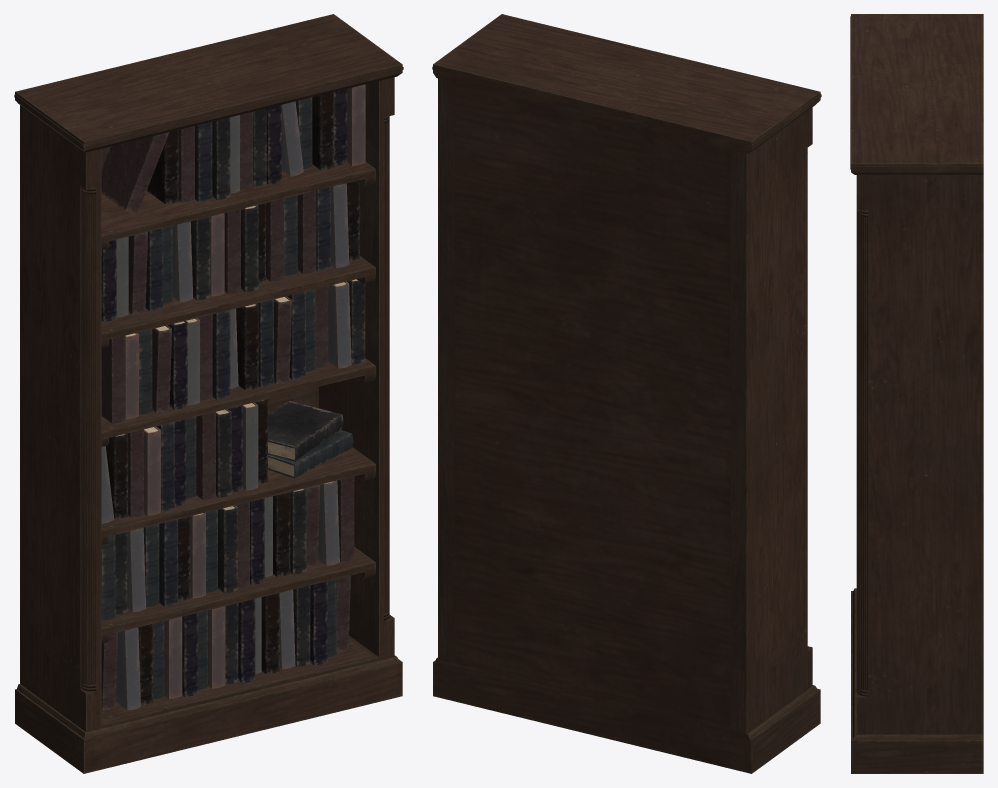
The model's file is books1.glb.
3 renders of one model, left to right at view 1: azimuth 30°, elevation 25°; view 2: azimuth 150°, elevation 25°; view 3: azimuth 270°, elevation 25°, orthographic. The views are drawn at different scales.
Visible parts, largest first — view 1: Victorian Bookcase Tall, Victorian Bookcase Tall Books 5, Victorian Bookcase Tall Books 2, Victorian Bookcase Tall Books 6, Victorian Bookcase Tall Books 1, Victorian Bookcase Tall Books 7, Victorian Bookcase Tall Books 3, Victorian Bookcase Tall Corner, Victorian Bookcase Tall Books 4; view 2: Victorian Bookcase Tall, Victorian Bookcase Tall Corner; view 3: Victorian Bookcase Tall, Victorian Bookcase Tall Corner.
Boxes of the visible parts, bbox=[...] form: Victorian Bookcase Tall: bbox=[14, 14, 403, 773]; Victorian Bookcase Tall Books 5: bbox=[101, 279, 365, 423]; Victorian Bookcase Tall Books 2: bbox=[101, 476, 354, 620]; Victorian Bookcase Tall Books 6: bbox=[101, 181, 359, 321]; Victorian Bookcase Tall Books 1: bbox=[101, 575, 350, 710]; Victorian Bookcase Tall Books 7: bbox=[101, 84, 365, 213]; Victorian Bookcase Tall Books 3: bbox=[101, 399, 267, 523]; Victorian Bookcase Tall Corner: bbox=[80, 116, 389, 691]; Victorian Bookcase Tall Books 4: bbox=[268, 401, 353, 478]; Victorian Bookcase Tall: bbox=[432, 14, 821, 773]; Victorian Bookcase Tall Corner: bbox=[806, 148, 807, 650]; Victorian Bookcase Tall: bbox=[850, 14, 983, 773]; Victorian Bookcase Tall Corner: bbox=[857, 211, 868, 696].
Bounding box in the file's own units: 0.954 × 1.8 × 0.357.
1 material, 1 textured.
